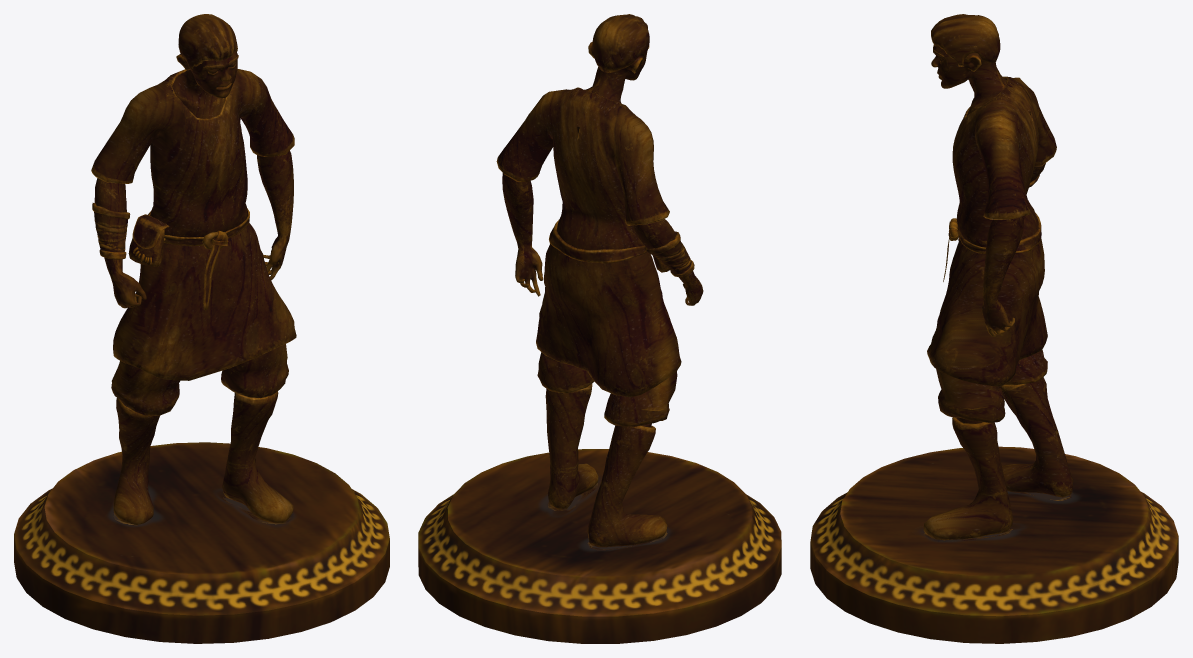
File: Figurka_NPC.fbx
3 views of the same model, side by side, from view 1: azimuth 30°, elevation 25°; view 2: azimuth 150°, elevation 25°; view 3: azimuth 270°, elevation 25° (orthographic). The views are drawn at different scales.
Visible parts, largest first — view 1: Figurka_NPC; view 2: Figurka_NPC; view 3: Figurka_NPC.
Part boxes in pixels (x1,y1,x2,y2): Figurka_NPC: (14,14,389,643); Figurka_NPC: (418,14,781,643); Figurka_NPC: (810,14,1178,643).
Bounding box in the file's own units: 0.3041 × 0.4978 × 0.3041.
Materials: 1 (1 with a texture image).
